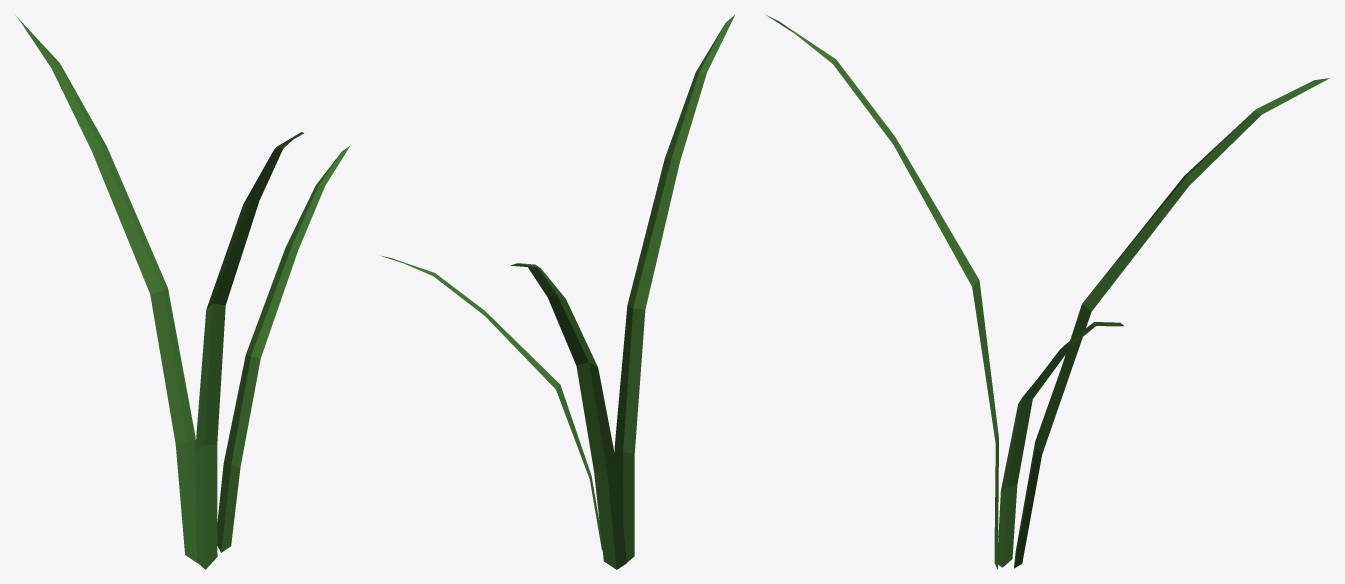
The model's file is grass_small-tuft.glb.
3 views of the same model, side by side, from view 1: azimuth 30°, elevation 25°; view 2: azimuth 150°, elevation 25°; view 3: azimuth 270°, elevation 25° (orthographic). The views are drawn at different scales.
Visible parts, largest first — view 1: Plane.001, Plane, Plane.002; view 2: Plane, Plane.001, Plane.002; view 3: Plane.001, Plane, Plane.002.
Part boxes in pixels (left/top/right/bottom): Plane.001: left=16, top=16, right=197, bottom=562; Plane: left=195, top=132, right=303, bottom=569; Plane.002: left=217, top=146, right=349, bottom=552; Plane: left=614, top=14, right=735, bottom=562; Plane.001: left=510, top=263, right=626, bottom=569; Plane.002: left=380, top=255, right=602, bottom=549; Plane.001: left=1014, top=78, right=1329, bottom=568; Plane: left=765, top=14, right=998, bottom=569; Plane.002: left=997, top=322, right=1123, bottom=567.
Size of the model in its own units: 0.6808 by 1.41 by 1.32.
